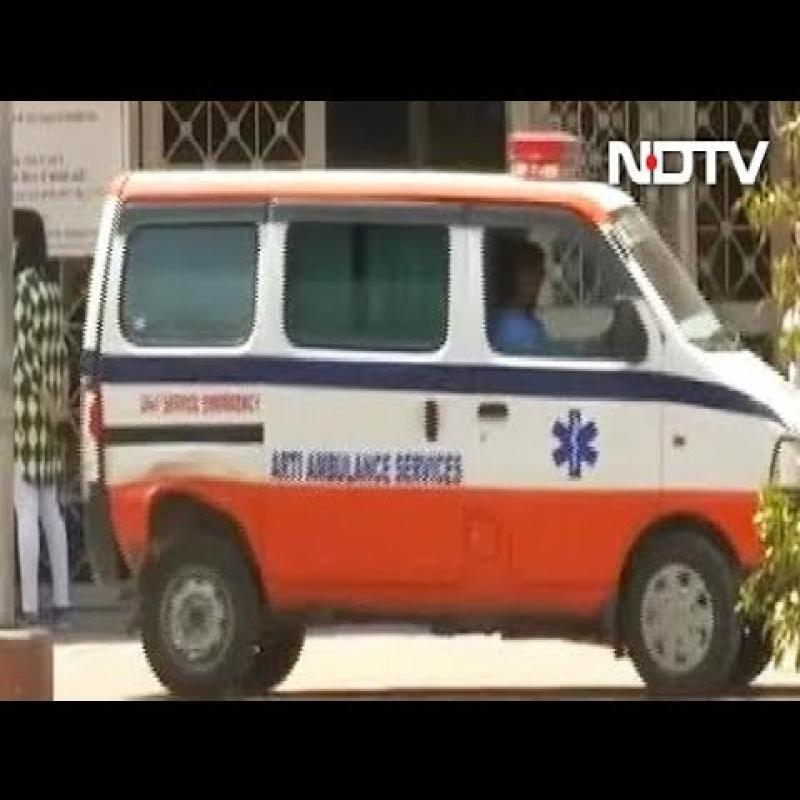ambulance: (75, 162, 782, 665)
